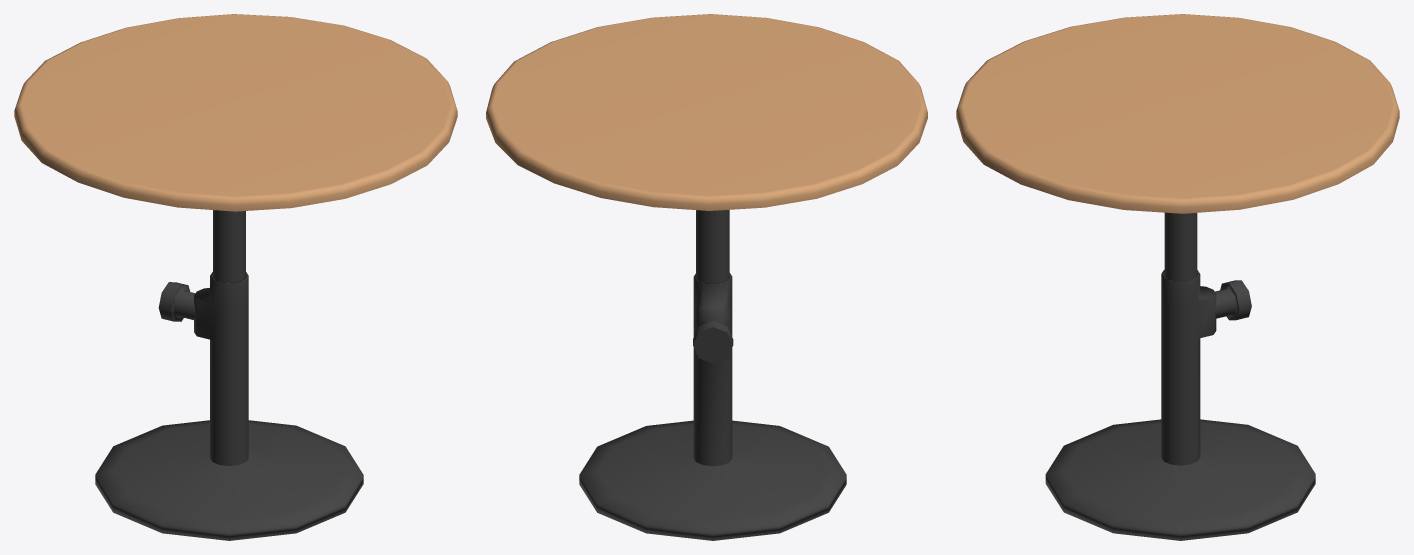
Rendered from Prism_Table.fbx.
3 renders of one model, left to right at view 1: azimuth 30°, elevation 25°; view 2: azimuth 150°, elevation 25°; view 3: azimuth 270°, elevation 25°, orthographic.
Visible parts, largest first — view 1: polySurface12, polySurface11, pCylinder13; view 2: polySurface12, polySurface11, pCylinder13; view 3: polySurface12, polySurface11, pCylinder13.
Boxes of the visible parts, x1,y1,x2,y2 form: polySurface12: (14, 14, 457, 282); polySurface11: (95, 272, 363, 540); pCylinder13: (158, 282, 195, 321); polySurface12: (486, 14, 927, 283); polySurface11: (579, 273, 846, 540); pCylinder13: (693, 319, 733, 363); polySurface12: (956, 14, 1399, 281); polySurface11: (1045, 270, 1315, 540); pCylinder13: (1214, 280, 1251, 320).
Size of the model in its own units: 85.33 by 79.81 by 84.2.
